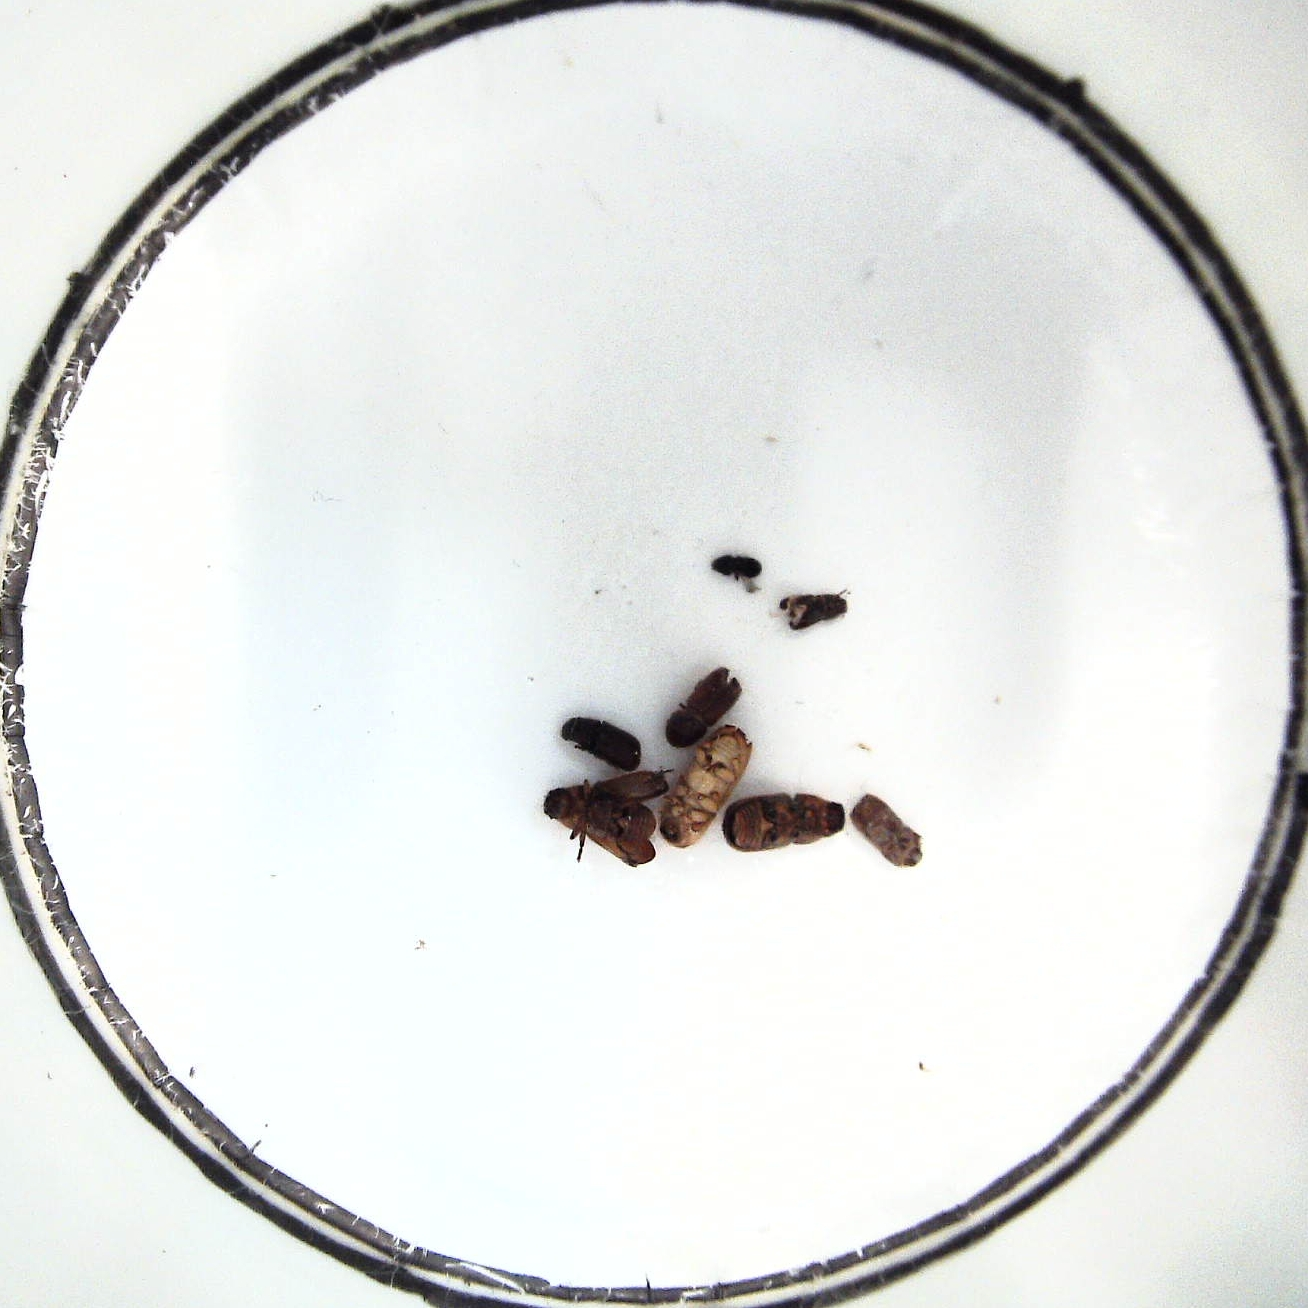Boerner: (658, 727, 750, 850)
Leconte: (541, 773, 666, 874), (721, 791, 844, 850)
Linnaeus: (665, 666, 745, 746), (850, 791, 924, 870)
acuminatus: (779, 589, 847, 632)
armandi: (559, 716, 642, 773)
coleoptera: (709, 553, 764, 583)
